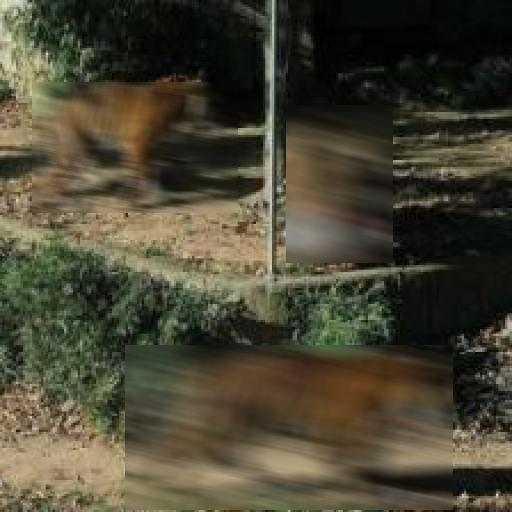Tiger: (126, 345, 454, 510), (32, 82, 238, 213), (286, 105, 393, 263)
